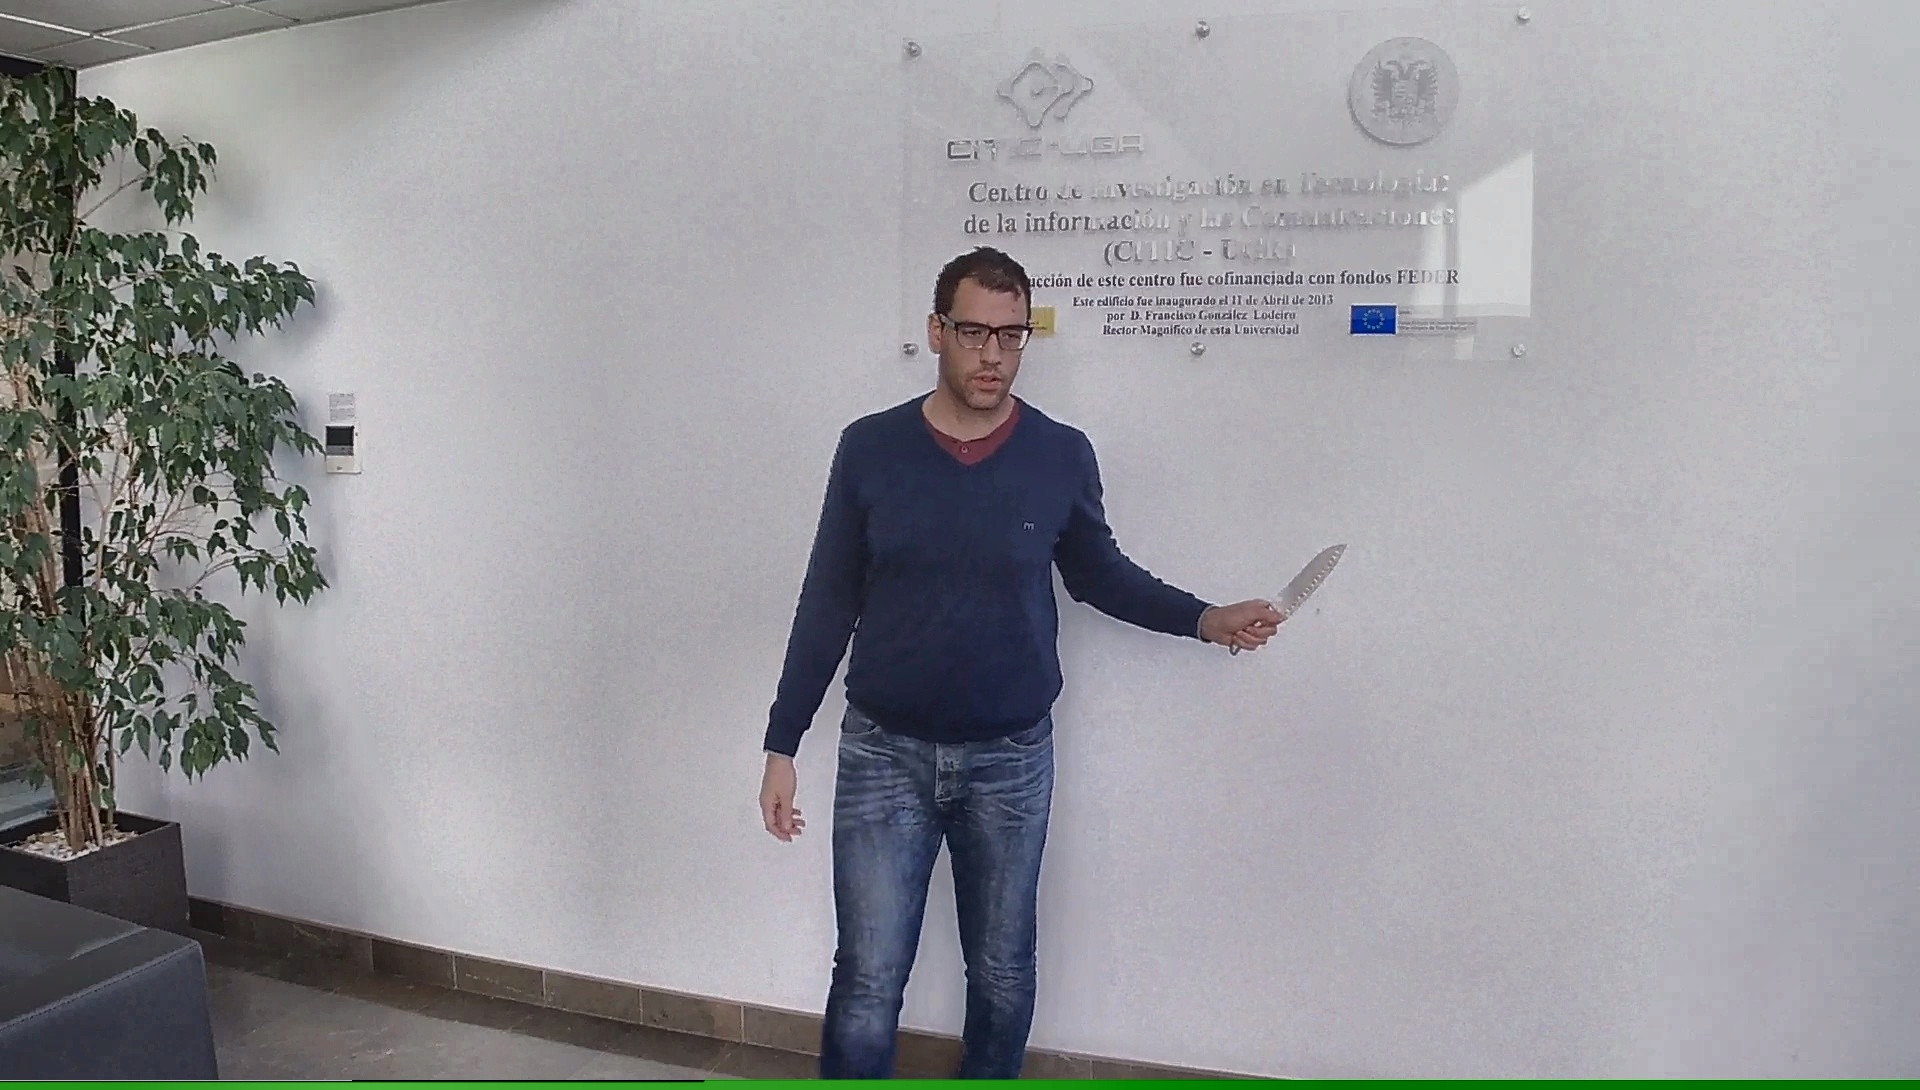knife: (1221, 535, 1356, 666)
